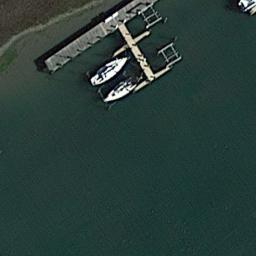boat: (103, 72, 144, 108), (88, 55, 128, 87)
